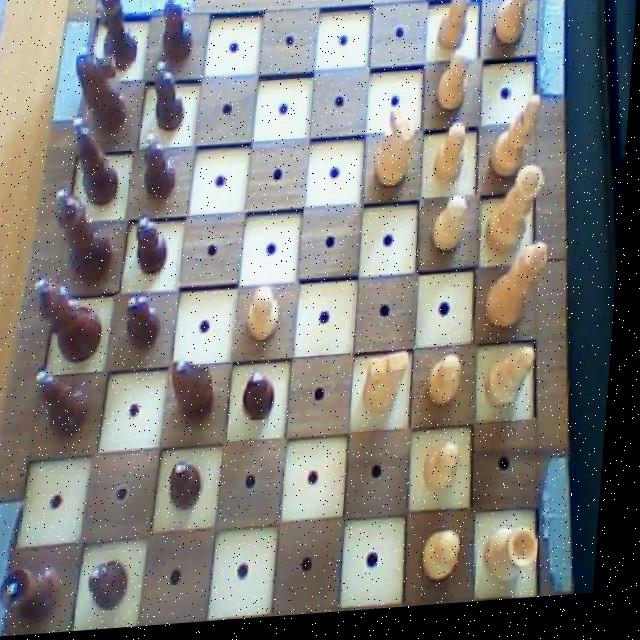bishop: (67, 113, 128, 212), (35, 367, 100, 446)
black-bishop: (52, 183, 124, 290)
black-king: (70, 41, 137, 137), (171, 358, 226, 437)
black-knight: (122, 288, 170, 361), (150, 60, 190, 138), (157, 0, 200, 71), (141, 132, 182, 206), (93, 555, 141, 616), (136, 215, 176, 282), (171, 455, 213, 516), (245, 369, 285, 430)
black-pawn: (32, 271, 112, 370)
black-queen: (2, 562, 72, 627), (89, 0, 146, 78)
black-rook: (489, 100, 548, 190), (486, 350, 546, 428)
white-bishop: (488, 245, 558, 342)
white-king: (364, 351, 423, 431), (372, 107, 423, 197)
white-knight: (432, 126, 475, 195), (429, 532, 478, 591), (246, 285, 289, 351), (434, 54, 474, 123), (427, 356, 472, 414), (428, 443, 472, 502), (433, 198, 472, 264), (432, 0, 474, 61)
white-pawn: (484, 169, 551, 268)
white-queen: (490, 526, 553, 593), (488, 0, 544, 57)
